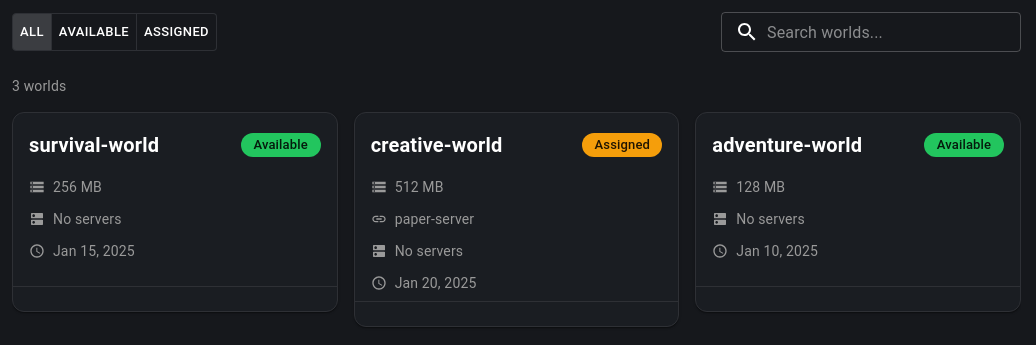
Test: WorldList › should combine search and filter
// Filter by available
Click the button "Available" at [94, 32], box [51,13,137,51]
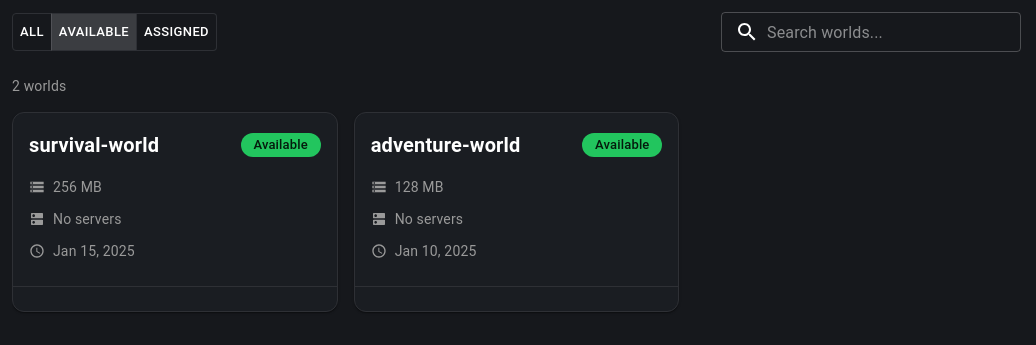
// Then search for "adventure"
Type "adventure" into the field with placeholder "Search worlds..." at [894, 32], box [767,12,1021,52]
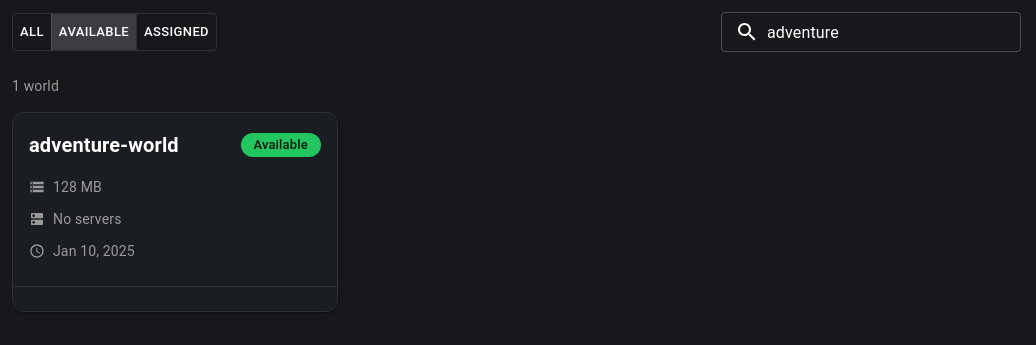
Expected: the heading "adventure-world" is shown, [29,133,179,157]
Expected: the heading "survival-world" is gone
